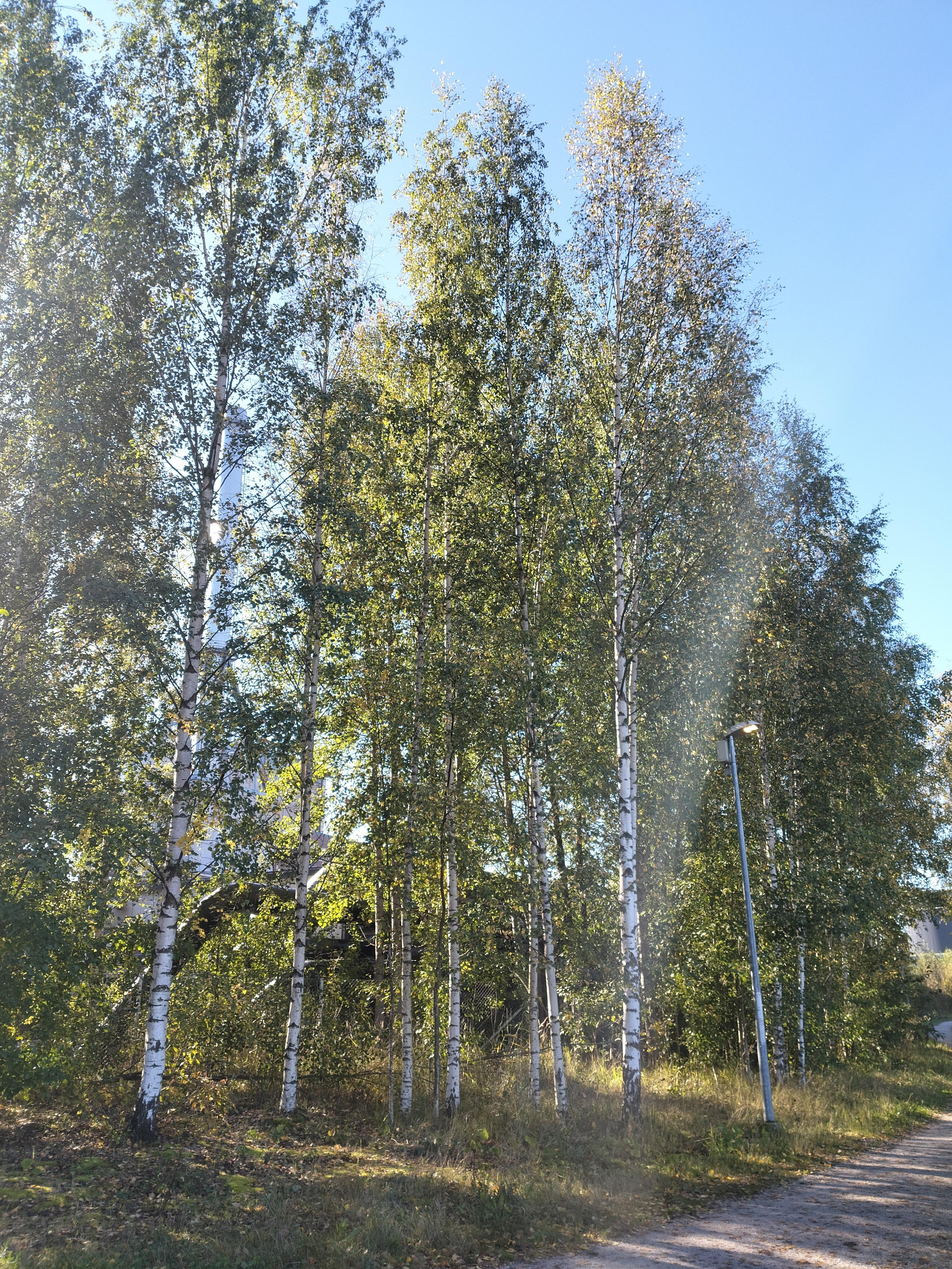Birch: (75, 0, 362, 1181), (280, 0, 536, 1218), (557, 50, 780, 1135)
